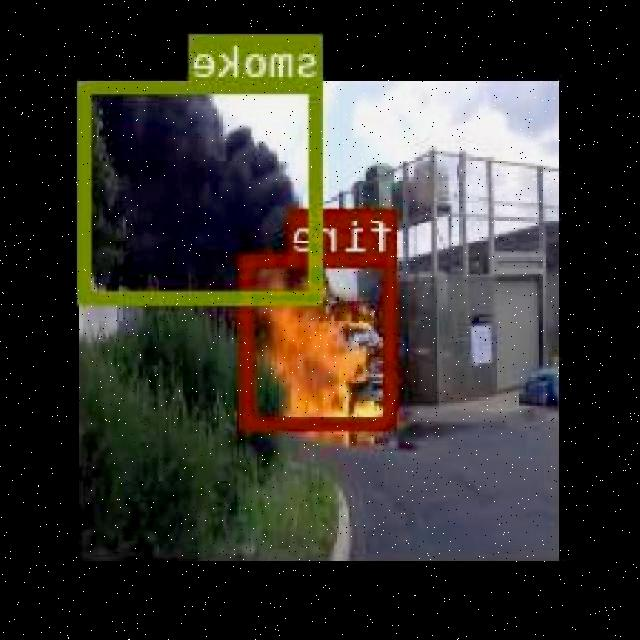fire: (244, 252, 398, 426)
smoke: (81, 78, 324, 302)
